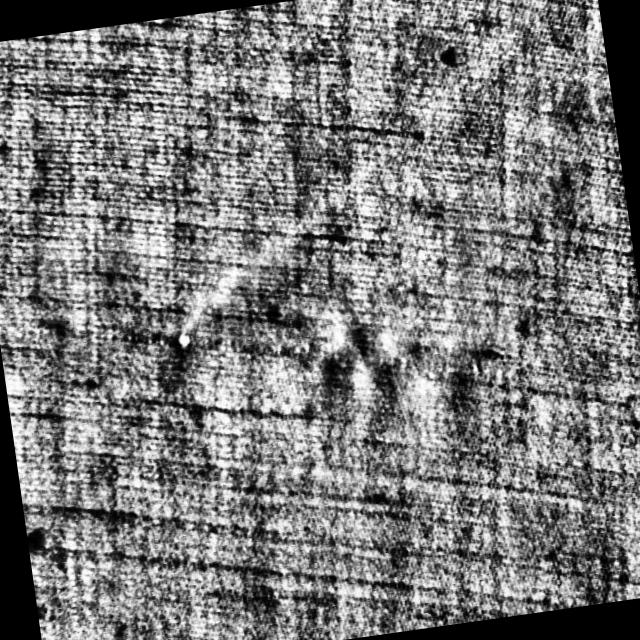cut: (176, 329, 193, 350)
